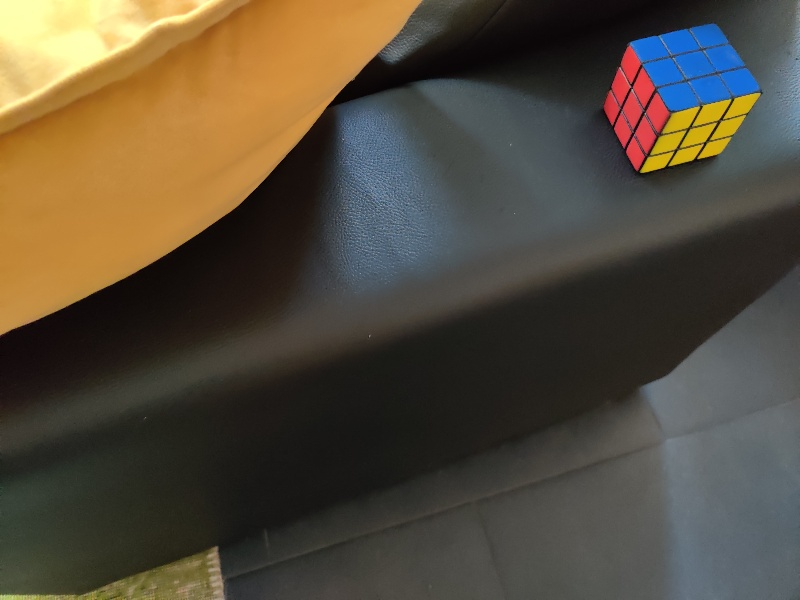rubik: (601, 23, 762, 175)
